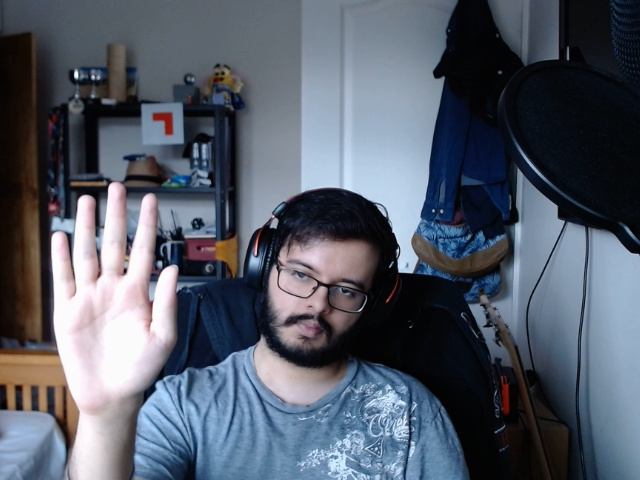Hello: (32, 169, 192, 418)
